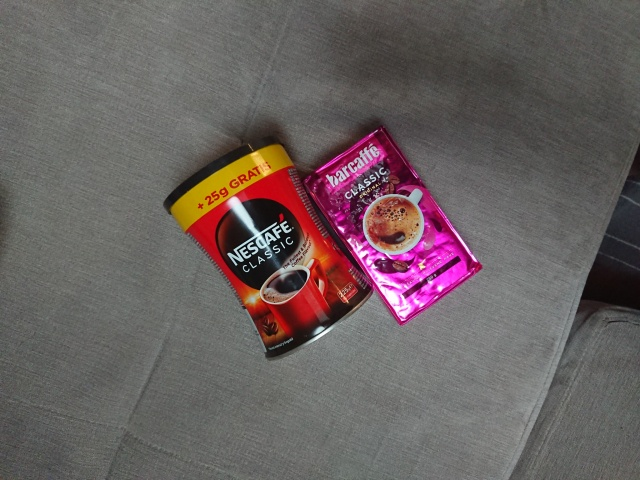Barcaffe Classic Original 225g: (299, 122, 487, 329)
Nescafe Classic 225g: (160, 132, 376, 365)
